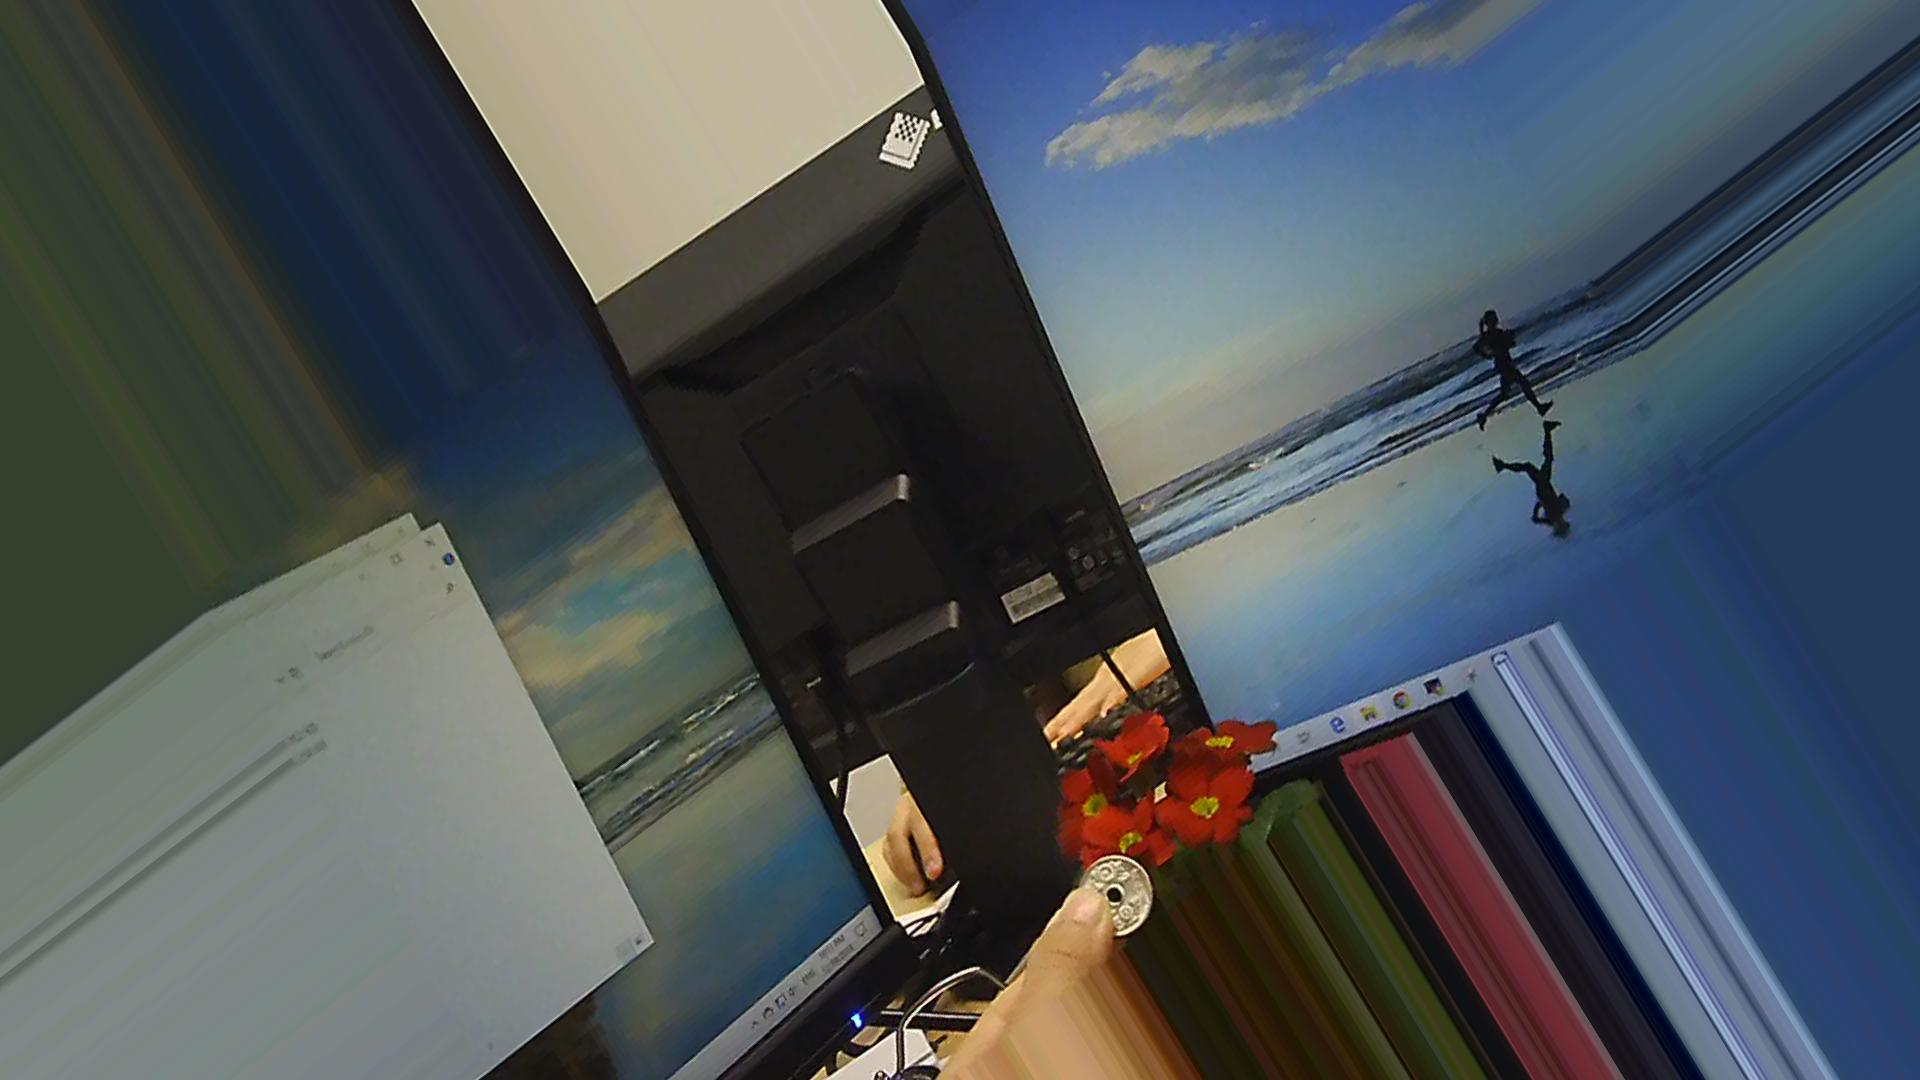50 Yen: (1072, 851, 1153, 938)
